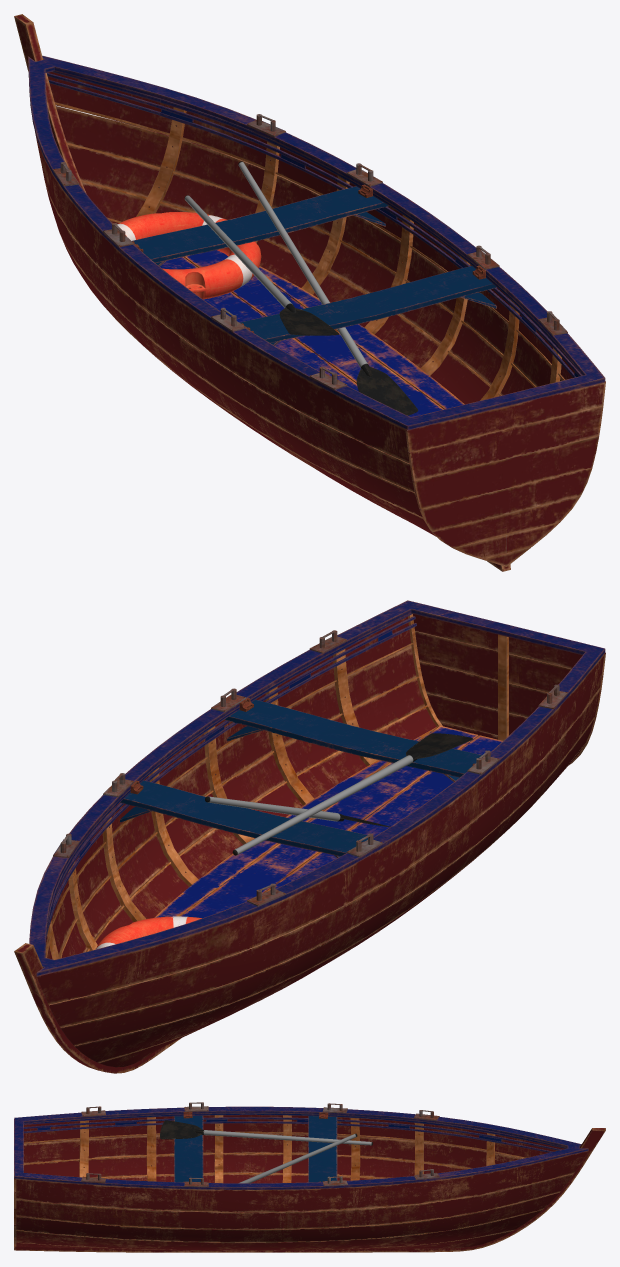
File: uploads_files_4582711_Boat.fbx
The picture shows the model from 3 angles, top to bottom: view 1: azimuth 30°, elevation 25°; view 2: azimuth 150°, elevation 25°; view 3: azimuth 270°, elevation 25°; orthographic projection. The views are drawn at different scales.
Parts seen in each view (by area): view 1: Boat, Lifebuoy, paddle1, paddle2; view 2: Boat, paddle2, Lifebuoy, paddle1; view 3: Boat, paddle2, paddle1.
Part boxes in pixels (left/top/right/bottom): Boat: left=14, top=14, right=605, bottom=571; Lifebuoy: left=117, top=212, right=261, bottom=299; paddle1: left=238, top=161, right=418, bottom=415; paddle2: left=184, top=195, right=339, bottom=335; Boat: left=14, top=600, right=605, bottom=1073; paddle2: left=232, top=733, right=472, bottom=855; Lifebuoy: left=96, top=916, right=201, bottom=949; paddle1: left=205, top=796, right=390, bottom=827; Boat: left=14, top=1102, right=605, bottom=1252; paddle2: left=160, top=1120, right=372, bottom=1145; paddle1: left=238, top=1133, right=357, bottom=1183.
Bounding box in the file's own units: 169 × 119 × 522.
Materials: 3 (3 with a texture image).
